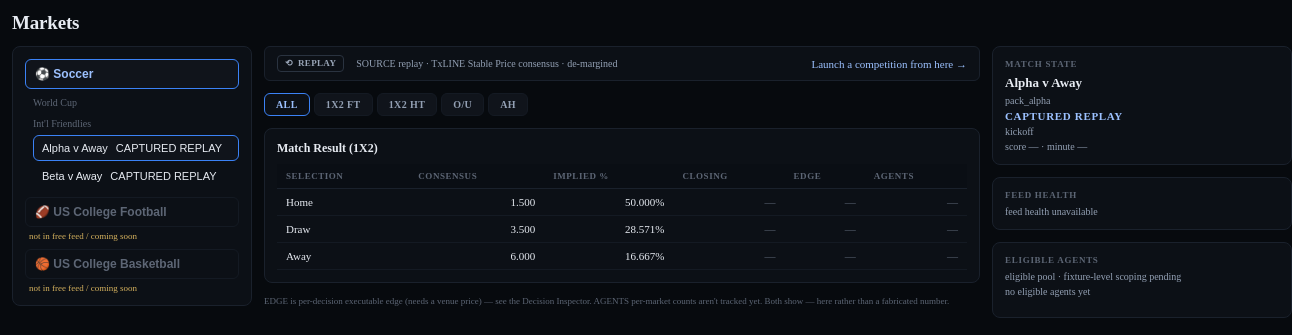
Scenario: MarketsScreen pack-scoped identity (MAJOR-4: (pack_id, fixture_id)) › selecting pack B shows pack B odds + pack B launch href (no collision with pack A)
The width and height of the screenshot is (1292, 335).
What coordinates should you click on to do the following:
click the button "Beta v Away CAPTURED REPLAY"
I would click on:
 (136, 176)
Its box is [33, 163, 239, 189].
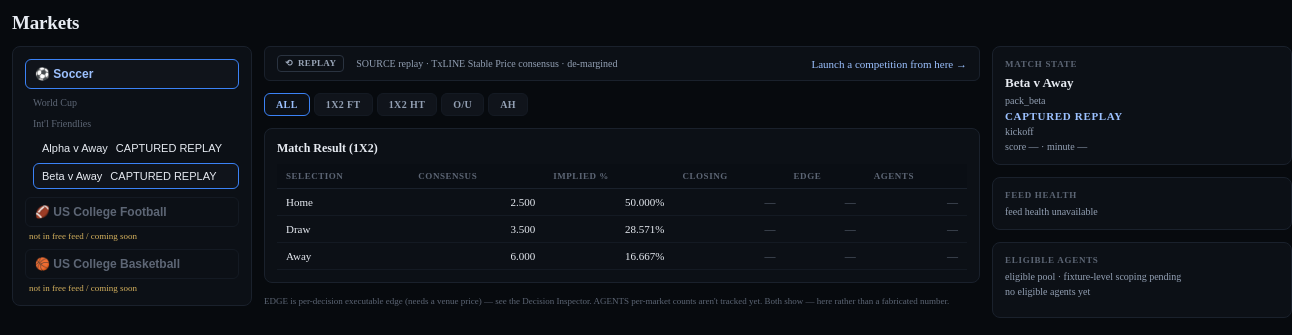
Now the text "2.500" is shown, box [409, 188, 544, 216]
Now the text "1.500" is gone
